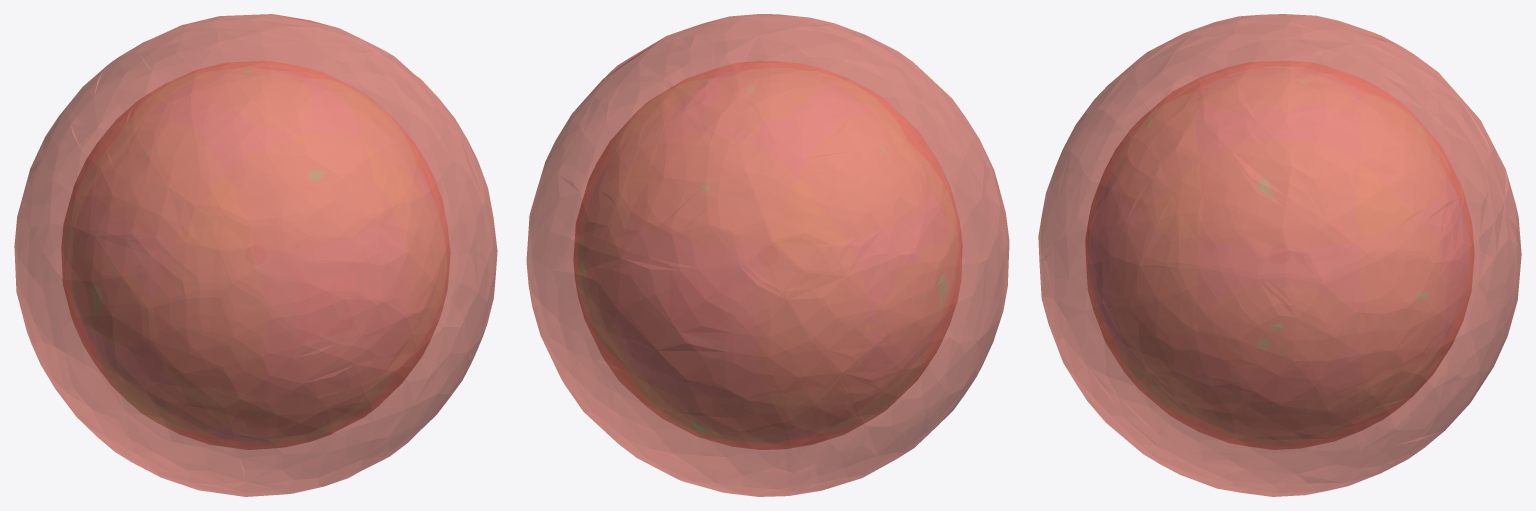
Rendered from orbital.glb.
The picture shows the model from 3 angles, left to right: view 1: azimuth 30°, elevation 25°; view 2: azimuth 150°, elevation 25°; view 3: azimuth 270°, elevation 25°; orthographic projection.
Visible parts, largest first — view 1: Nb_n5_s_ml0_node, Nb_n4_s_ml0_node; view 2: Nb_n5_s_ml0_node, Nb_n4_s_ml0_node; view 3: Nb_n5_s_ml0_node, Nb_n4_s_ml0_node.
Boxes of the visible parts, x1,y1,x2,y2 form: Nb_n5_s_ml0_node: (14,14,497,496); Nb_n4_s_ml0_node: (61,61,450,449); Nb_n5_s_ml0_node: (526,14,1009,496); Nb_n4_s_ml0_node: (573,61,962,449); Nb_n5_s_ml0_node: (1038,14,1521,496); Nb_n4_s_ml0_node: (1085,61,1474,449).
Size of the model in its own units: 2.56 by 2.56 by 2.56.
